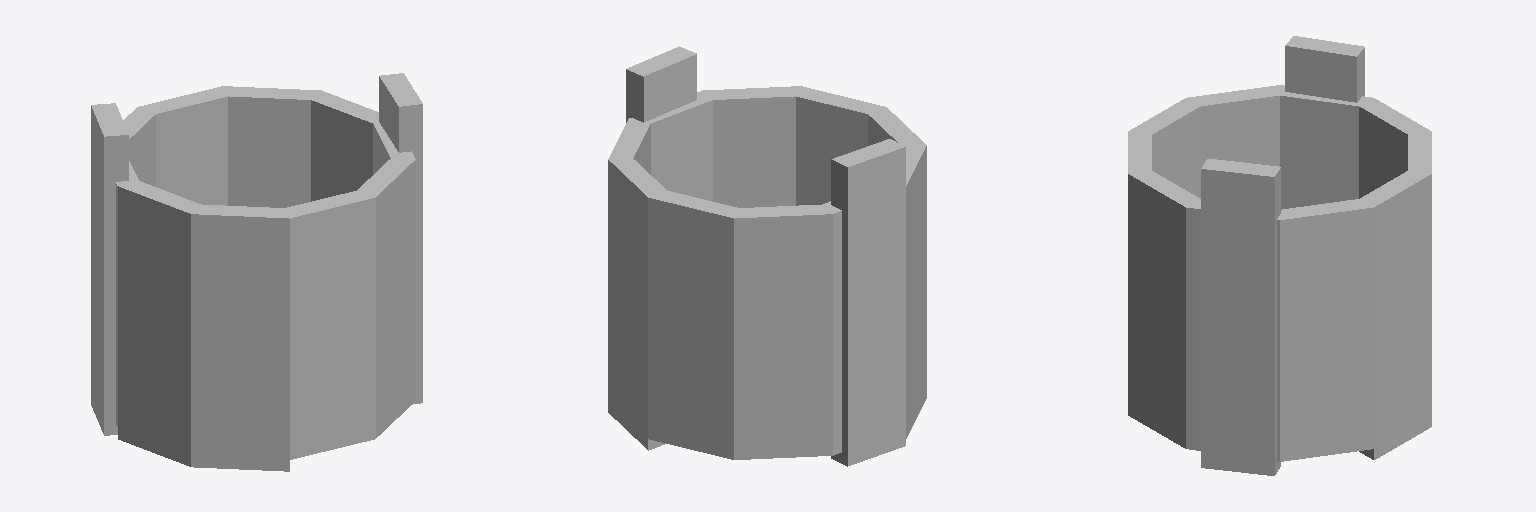
Rendered from bucket.obj.
3 renders of one model, left to right at view 1: azimuth 30°, elevation 25°; view 2: azimuth 150°, elevation 25°; view 3: azimuth 270°, elevation 25°, orthographic.
Parts seen in each view (by area): view 1: tube, cube, cube.000; view 2: tube, cube, cube.000; view 3: tube, cube.000, cube.
Part boxes in pixels (bbox=[...]): tube: bbox=[116, 86, 415, 471]; cube: bbox=[91, 103, 128, 435]; cube.000: bbox=[379, 73, 422, 404]; tube: bbox=[608, 86, 926, 459]; cube: bbox=[831, 139, 905, 466]; cube.000: bbox=[626, 46, 696, 122]; tube: bbox=[1128, 85, 1431, 461]; cube.000: bbox=[1201, 159, 1280, 475]; cube: bbox=[1285, 36, 1364, 102].
Size of the model in its own units: 0.8239 by 0.8125 by 0.75.